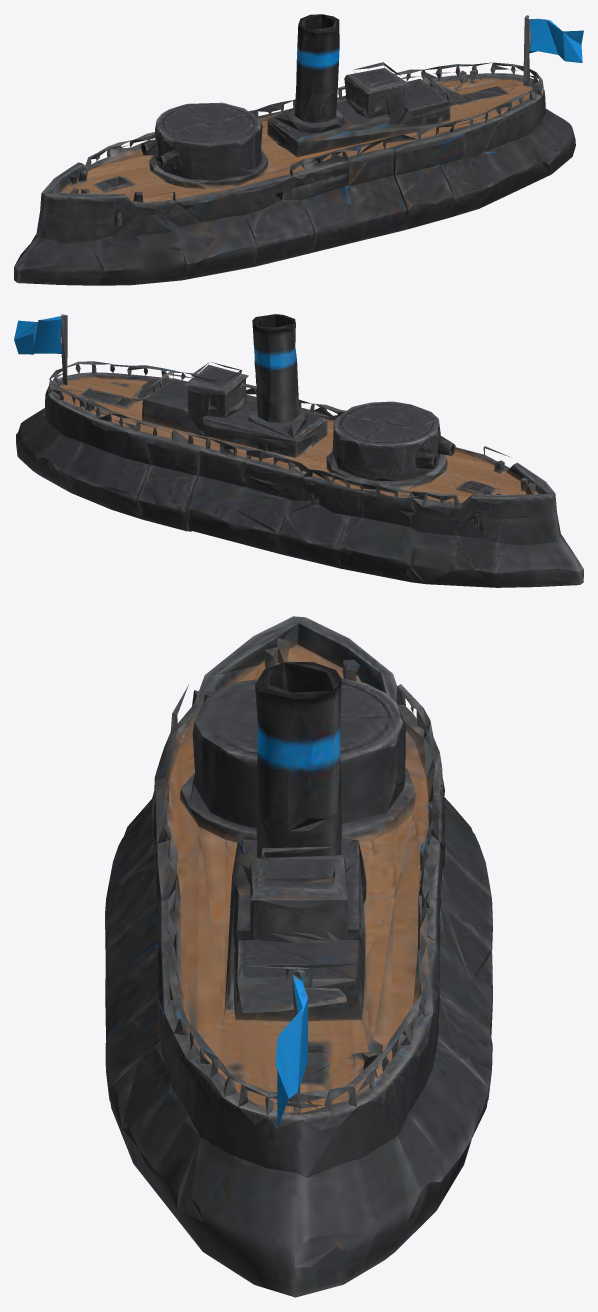
File: ironclad.glb
The picture shows the model from 3 angles, top to bottom: view 1: azimuth 30°, elevation 25°; view 2: azimuth 150°, elevation 25°; view 3: azimuth 270°, elevation 25°; orthographic projection. The views are drawn at different scales.
Size of the model in its own units: 1.9 by 0.5975 by 0.5674.
1 material, 1 textured.
